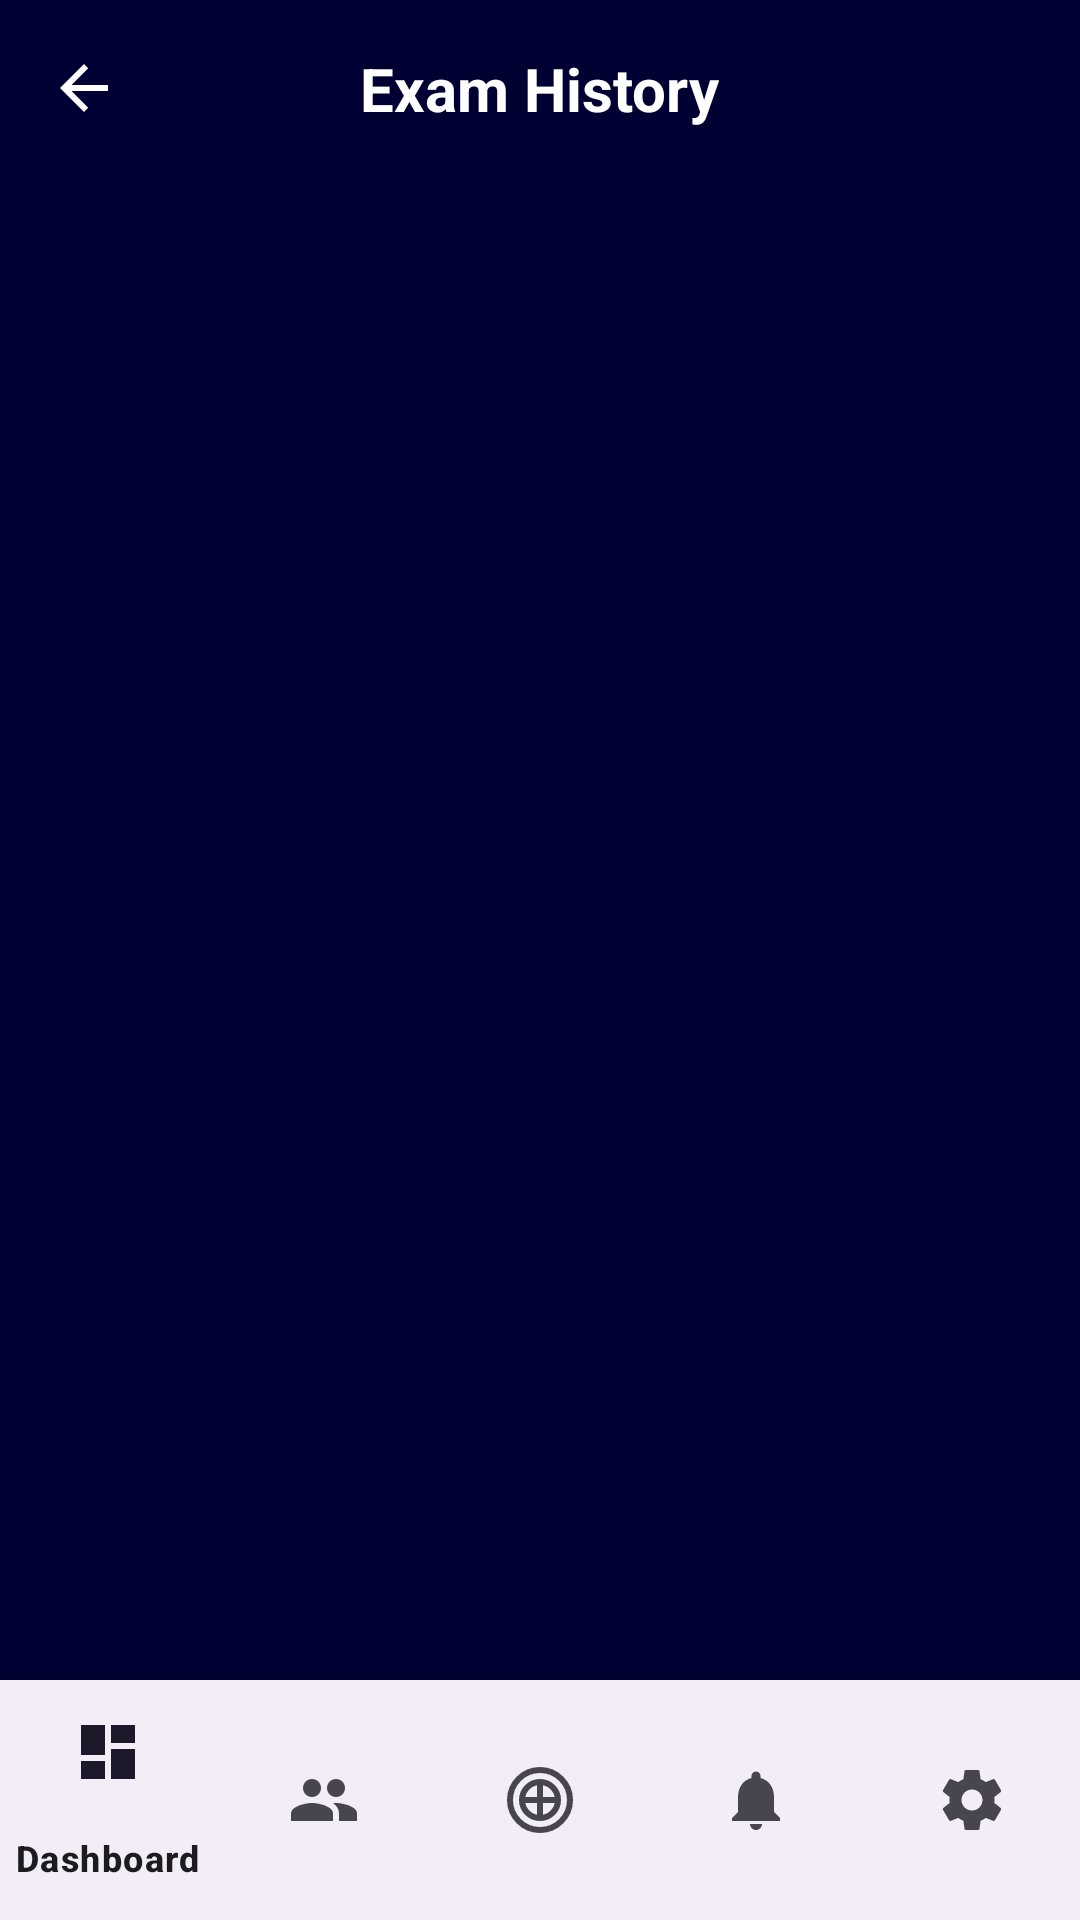

Icons on this 1080×1920 Android screen, each with its box as (x1, y1, x2, y2):
arrow back: (60, 64, 108, 112)
